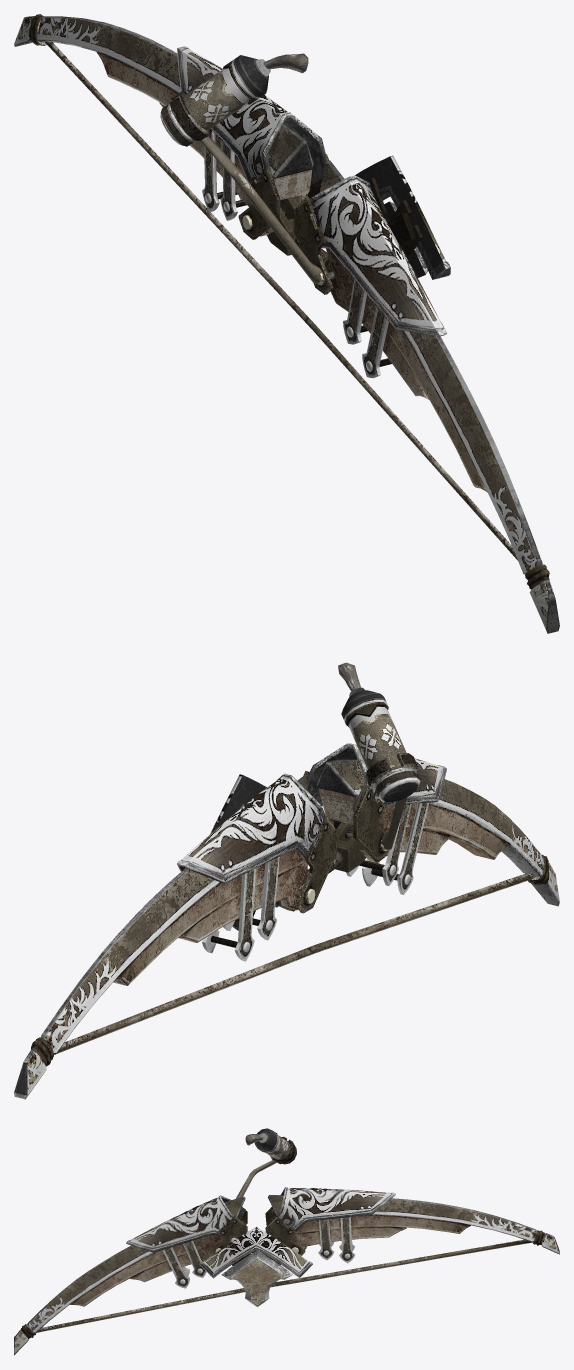
Rendered from bs_bow012.obj.
3 renders of one model, top to bottom at view 1: azimuth 30°, elevation 25°; view 2: azimuth 150°, elevation 25°; view 3: azimuth 270°, elevation 25°, orthographic. The views are drawn at different scales.
Visible parts, largest first — view 1: bs_bow012_000_LOD_1, bs_bow012_001_LOD_1, bs_bow012_004_LOD_1, bs_bow012_005_LOD_1, bs_bow012_003_LOD_1, bs_bow012_002_LOD_1; view 2: bs_bow012_001_LOD_1, bs_bow012_000_LOD_1, bs_bow012_004_LOD_1, bs_bow012_005_LOD_1, bs_bow012_002_LOD_1, bs_bow012_003_LOD_1; view 3: bs_bow012_001_LOD_1, bs_bow012_000_LOD_1, bs_bow012_003_LOD_1, bs_bow012_005_LOD_1, bs_bow012_004_LOD_1.
Part boxes in pixels (x1,y1,x2,y2): bs_bow012_000_LOD_1: (293, 160, 559, 633); bs_bow012_001_LOD_1: (14, 16, 328, 239); bs_bow012_004_LOD_1: (160, 53, 321, 284); bs_bow012_005_LOD_1: (28, 14, 549, 589); bs_bow012_003_LOD_1: (355, 155, 450, 279); bs_bow012_002_LOD_1: (266, 197, 327, 268); bs_bow012_001_LOD_1: (14, 773, 337, 1099); bs_bow012_000_LOD_1: (303, 743, 559, 906); bs_bow012_004_LOD_1: (338, 662, 420, 849); bs_bow012_005_LOD_1: (31, 854, 549, 1066); bs_bow012_002_LOD_1: (275, 822, 366, 911); bs_bow012_003_LOD_1: (210, 774, 266, 930); bs_bow012_001_LOD_1: (265, 1187, 559, 1263); bs_bow012_000_LOD_1: (14, 1195, 247, 1355); bs_bow012_003_LOD_1: (199, 1226, 312, 1307); bs_bow012_005_LOD_1: (21, 1230, 544, 1338); bs_bow012_004_LOD_1: (236, 1128, 296, 1198).
Bounding box in the file's own units: 54.34 × 99.21 × 230.
